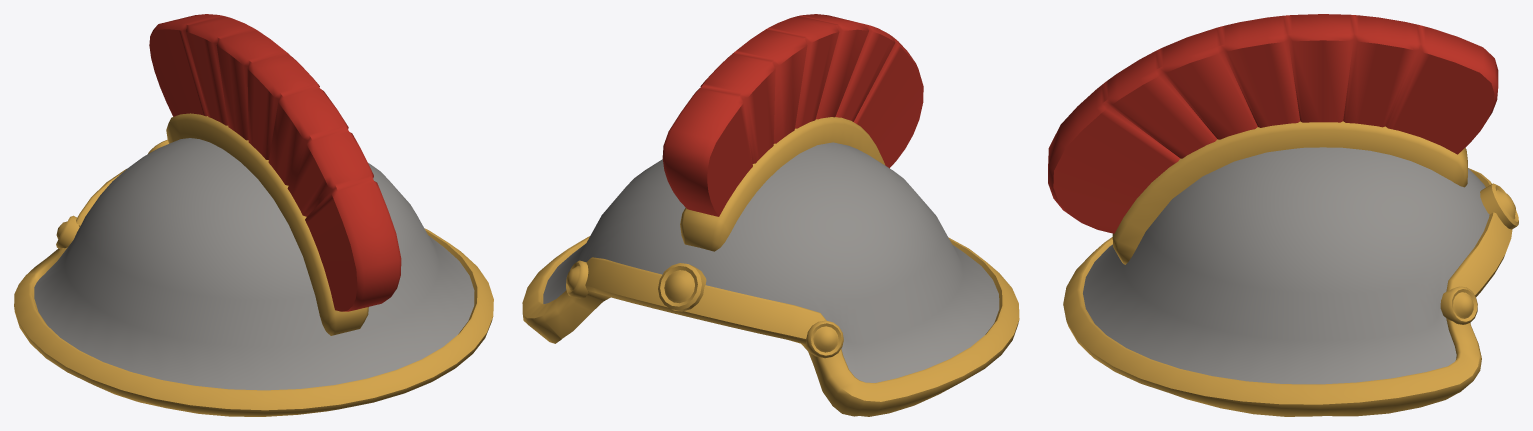
The model's file is Cosmetic_Roman_Helmet.glb.
3 views of the same model, side by side, from view 1: azimuth 30°, elevation 25°; view 2: azimuth 150°, elevation 25°; view 3: azimuth 270°, elevation 25° (orthographic). The views are drawn at different scales.
Parts seen in each view (by area): view 1: Cosmetic_Roman_Helmet; view 2: Cosmetic_Roman_Helmet; view 3: Cosmetic_Roman_Helmet.
Part boxes in pixels (x1,y1,x2,y2): Cosmetic_Roman_Helmet: [14, 14, 493, 416]; Cosmetic_Roman_Helmet: [522, 14, 1019, 416]; Cosmetic_Roman_Helmet: [1048, 14, 1518, 416].
Size of the model in its own units: 1.27 by 0.8367 by 1.18.
